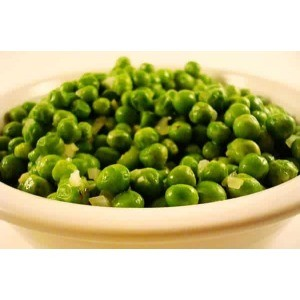green pea_brain food: (78, 93, 215, 175)
